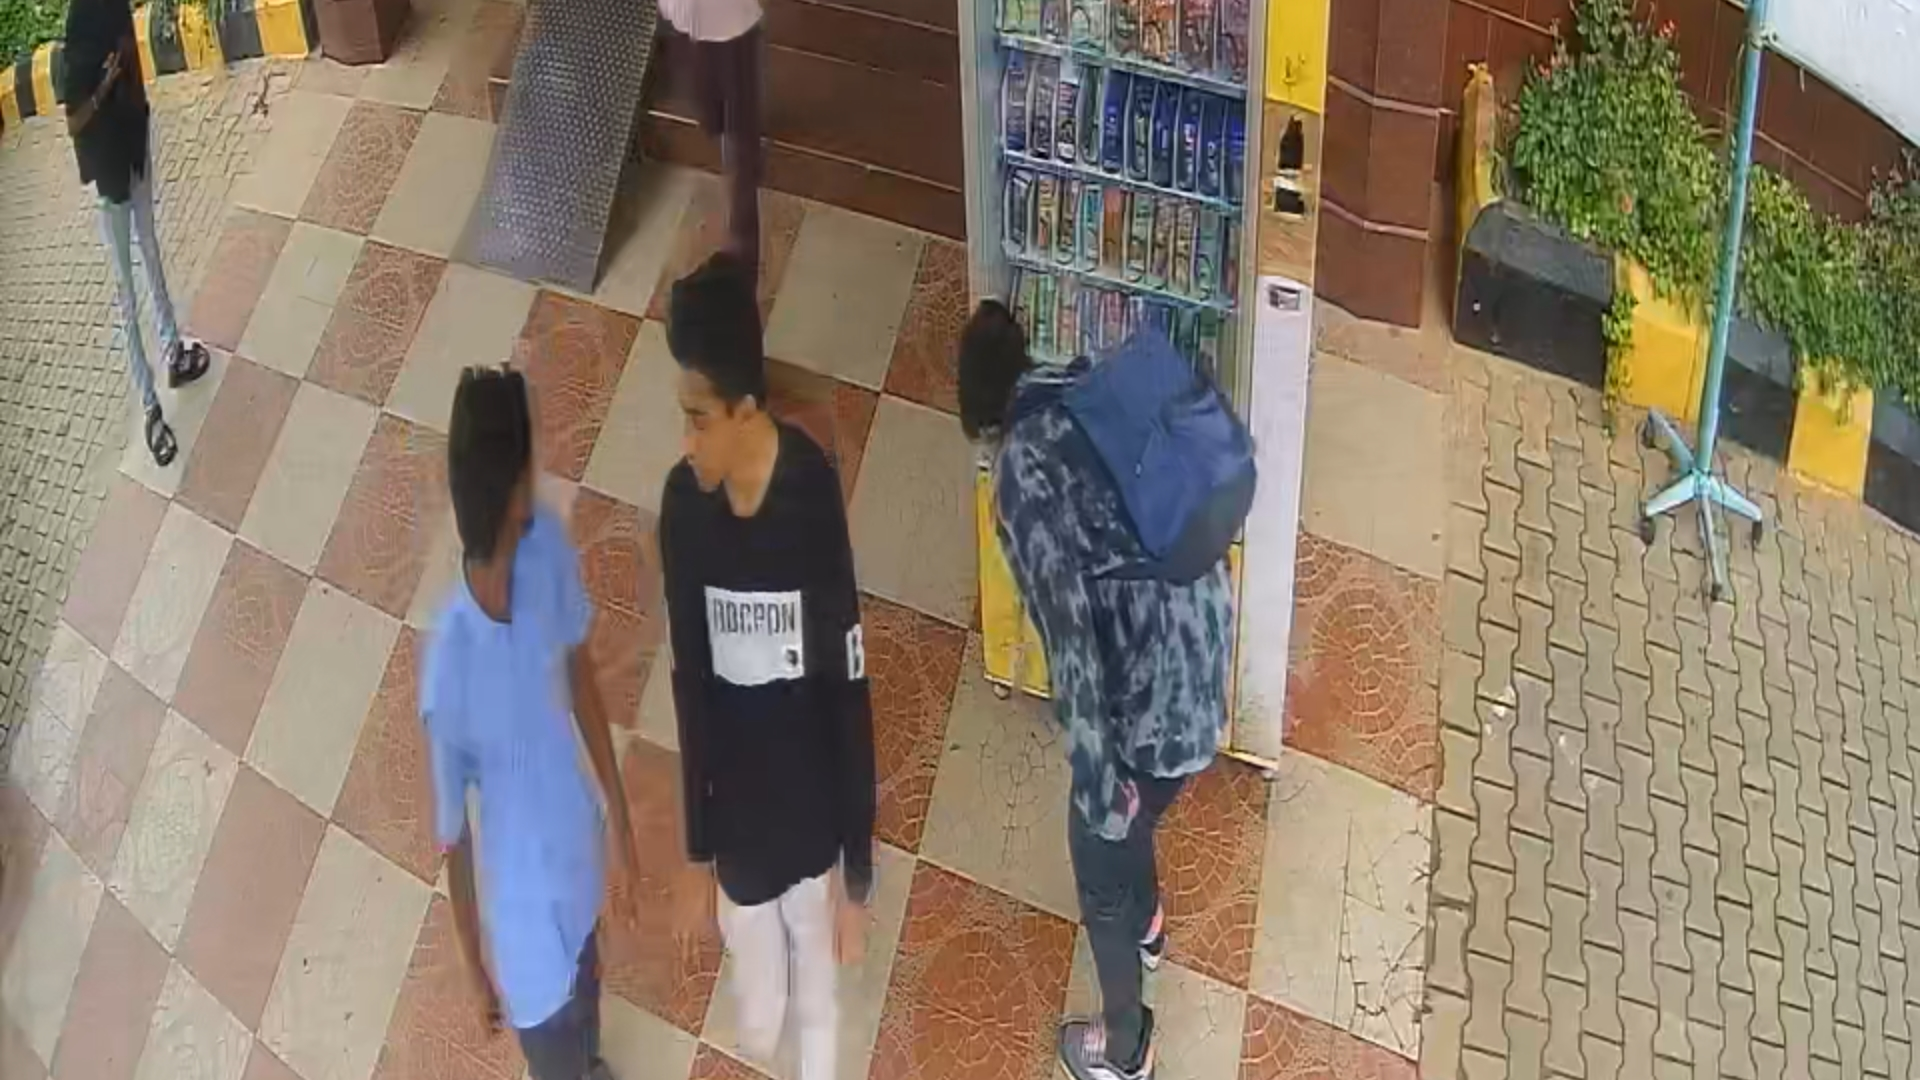intruder: (659, 235, 899, 1080), (418, 357, 670, 1080)
